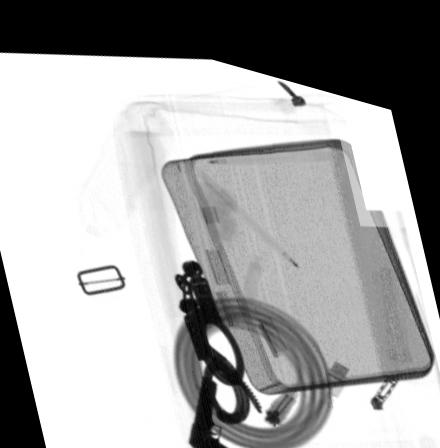Gun: (188, 363, 240, 448)
HandCuffs: (171, 248, 265, 412)
